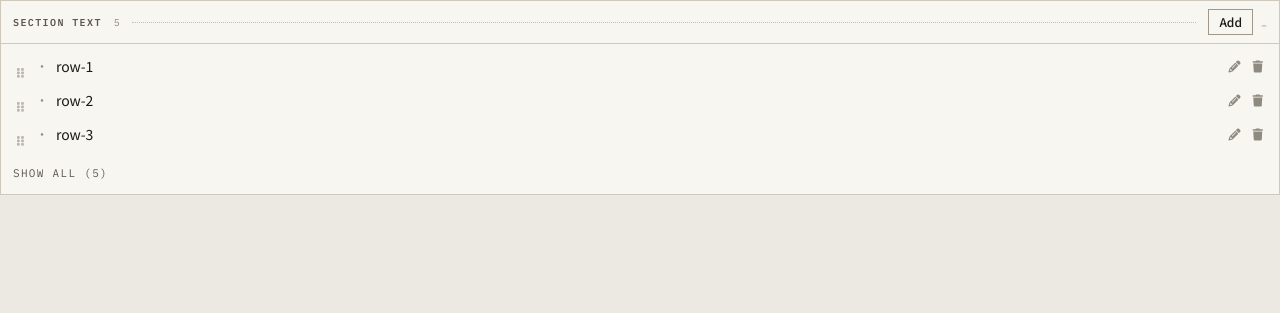
Test case: a folded section never hides what is being written › shows the draft row of a folded section
Click the button "Add" at (1231, 22), box [1208,9,1253,35]
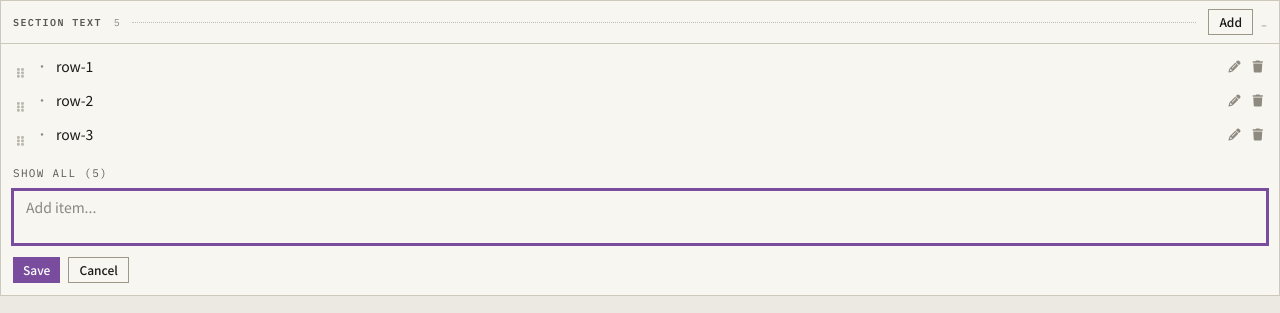
Check: the number of buttons named "Edit" is 3, box [1224,58,1244,74]; [1224,92,1244,108]; [1224,126,1244,142]
Check: the text box with placeholder "Add item..." is shown, box [13,190,1267,244]
